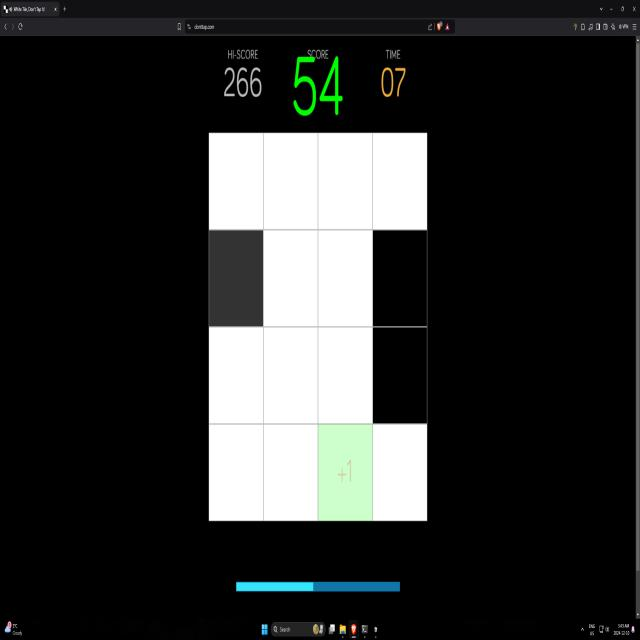black-tile: (372, 228, 428, 329), (372, 326, 428, 426)
